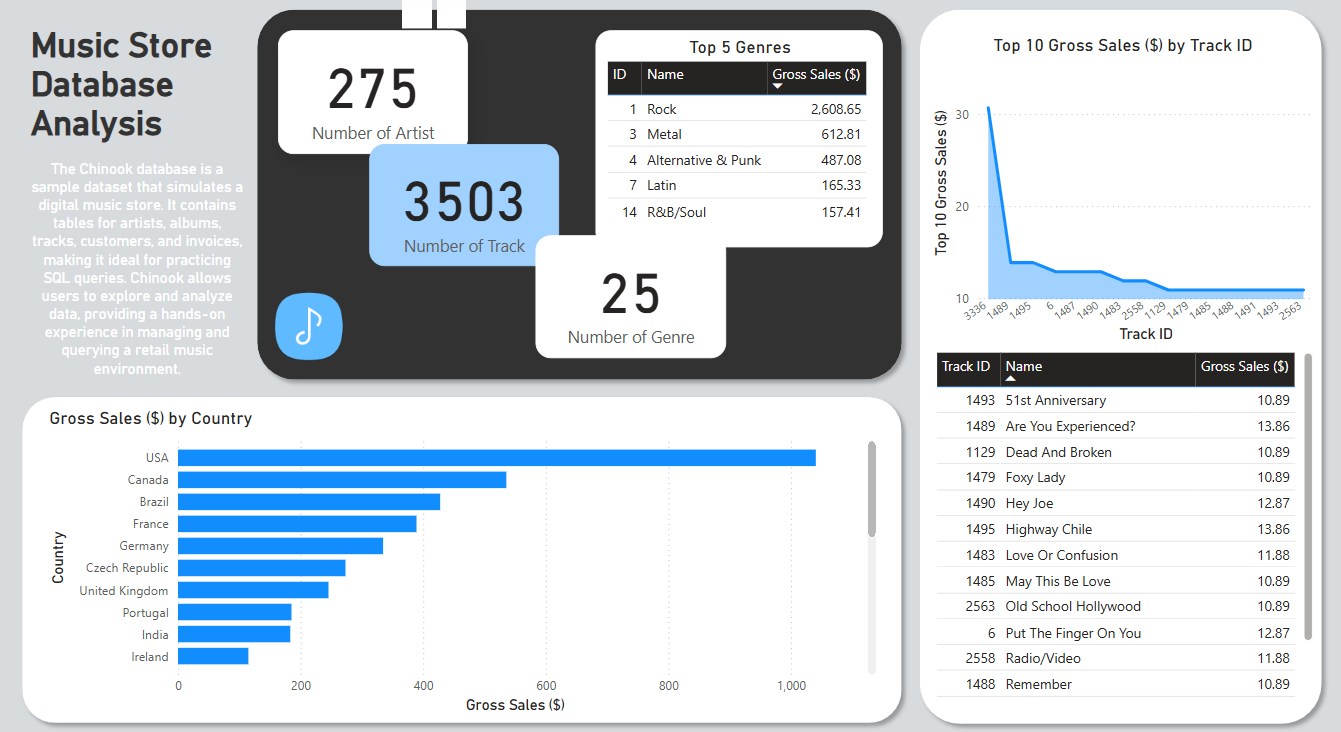

Layout of this report page (visuals, bound fields, positions):
{"tool":"powerbi","page":{"name":"Page 1","canvas":[1280,720],"ordinal":0},"visuals":[{"type":"textbox","box":[87.3,19.4,511.3,54],"z":0},{"type":"tableEx","fields":{"Values":["customer.customer_id","customer.first_name","customer.last_name","customer.Top 10 Spend"]},"box":[241.1,194,351.9,306.2],"z":1000},{"type":"tableEx","fields":{"Values":["artist.artist_id","artist.name","artist.Top 10 Artists Spend"]},"box":[593,461,310.4,249.4],"z":2000},{"type":"card","fields":{"Values":["CountNonNull(artist.artist_id)"]},"box":[5.1,92.6,231.4,126.1],"z":3000},{"type":"card","fields":{"Values":["CountNonNull(track.track_id)"]},"box":[5.1,218.6,231.4,119.2],"z":4000},{"type":"card","fields":{"Values":["CountNonNull(genre.genre_id)"]},"box":[5.1,328.1,231.4,119.2],"z":5000},{"type":"tableEx","fields":{"Values":["track.track_id","track.name","track.Top 10 Tracks Spend"]},"box":[907.6,350.4,363.6,360.6],"z":6000},{"type":"tableEx","title":"Top 5 Genres","fields":{"Values":["genre.genre_id","genre.name","genre.Top 5 Genres Spend"]},"box":[587.5,176,310.4,171.8],"z":7000},{"type":"clusteredBarChart","fields":{"Category":["customer.country"],"Y":["customer.Top 10 Spend"]},"box":[6.9,483.6,580.6,230],"z":8000},{"type":"advancedSlicerVisual","fields":{"Values":["invoice.invoice_date.Variation.Date Hierarchy.Year"]},"box":[598.6,13.9,264.6,65.1],"z":9000},{"type":"stackedAreaChart","fields":{"Y":["customer.Top 10 Spend"],"Category":["customer.customer_id"]},"box":[241.4,79.4,351.4,102.4],"z":10000},{"type":"stackedAreaChart","fields":{"Category":["track.track_id"],"Y":["track.Top 10 Tracks Spend"]},"box":[907.6,15.2,363,327],"z":11000},{"type":"card","fields":{"Values":["artist.Top 10 Artists Spend"]},"box":[591.6,333.5,311.8,127.5],"z":12000},{"type":"image","box":[6.9,6.9,81.7,79],"z":13000},{"type":"image","box":[612.7,103.6,51.3,47.1],"z":14000},{"type":"image","box":[680.6,91.2,49.9,49.9],"z":15000},{"type":"image","box":[741.6,113.3,51.3,47.1],"z":16000},{"type":"image","box":[795.6,88.4,49.9,49.9],"z":17000}]}

Visuals, with their boxes on the page's 1280x720 design canvas (x1, y1, x2, y2). These are canvas units, not pixel positions in the 1341x732 screenshot, which may show the page scaled, cropped or inside an application window:
textbox: 87/19/599/73
tableEx - customer.customer_id x customer.first_name: 241/194/593/500
tableEx - artist.artist_id x artist.name: 593/461/903/710
card - CountNonNull(artist.artist_id): 5/93/236/219
card - CountNonNull(track.track_id): 5/219/236/338
card - CountNonNull(genre.genre_id): 5/328/236/447
tableEx - track.track_id x track.name: 908/350/1271/711
"Top 5 Genres" tableEx: 588/176/898/348
clusteredBarChart - customer.country x customer.Top 10 Spend: 7/484/588/714
advancedSlicerVisual - invoice.invoice_date.Variation.Date Hierarchy.Year: 599/14/863/79
stackedAreaChart - customer.Top 10 Spend x customer.customer_id: 241/79/593/182
stackedAreaChart - track.track_id x track.Top 10 Tracks Spend: 908/15/1271/342
card - artist.Top 10 Artists Spend: 592/334/903/461
image: 7/7/89/86
image: 613/104/664/151
image: 681/91/730/141
image: 742/113/793/160
image: 796/88/846/138
